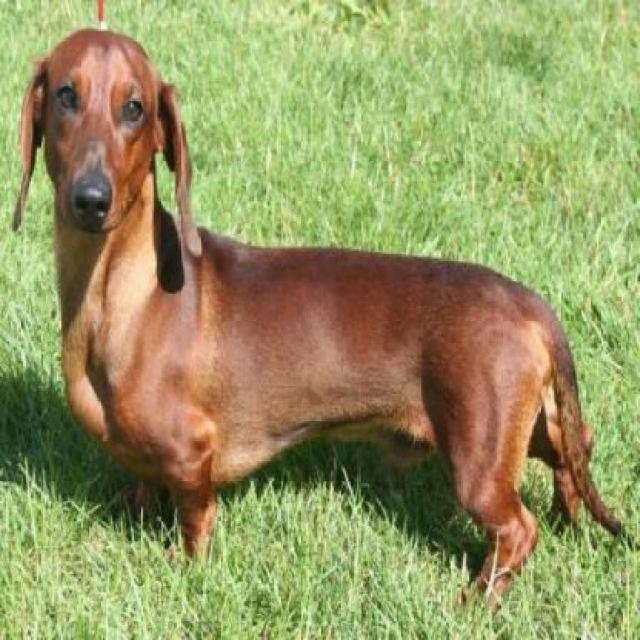Dog: (12, 23, 638, 612)
